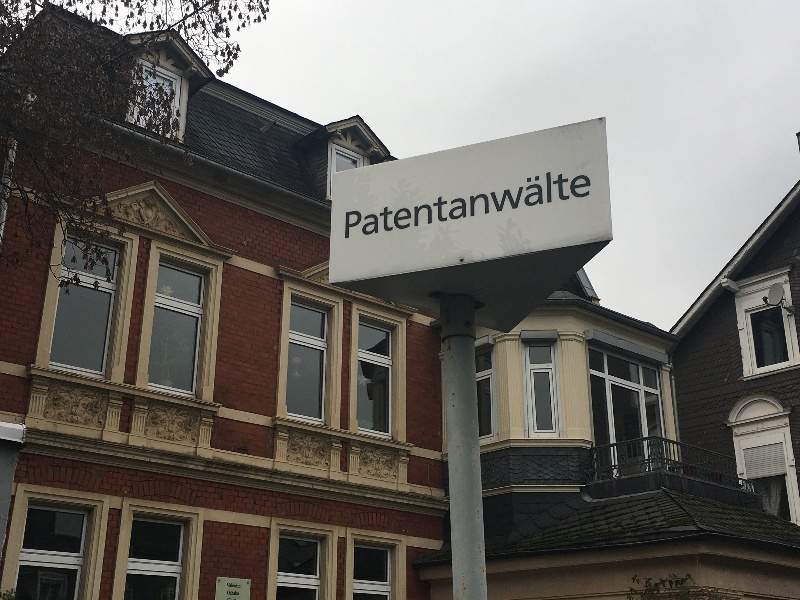text: (353, 164, 368, 240), (369, 164, 384, 240), (385, 164, 400, 240), (401, 164, 416, 240), (417, 164, 432, 240), (433, 164, 448, 240), (449, 164, 464, 240), (465, 164, 480, 240), (481, 164, 496, 240), (497, 164, 512, 240), (513, 164, 528, 240), (529, 164, 544, 240), (545, 164, 560, 240), (561, 164, 576, 240), (577, 164, 592, 240), (346, 164, 352, 240), (227, 583, 240, 589), (227, 591, 240, 596)
